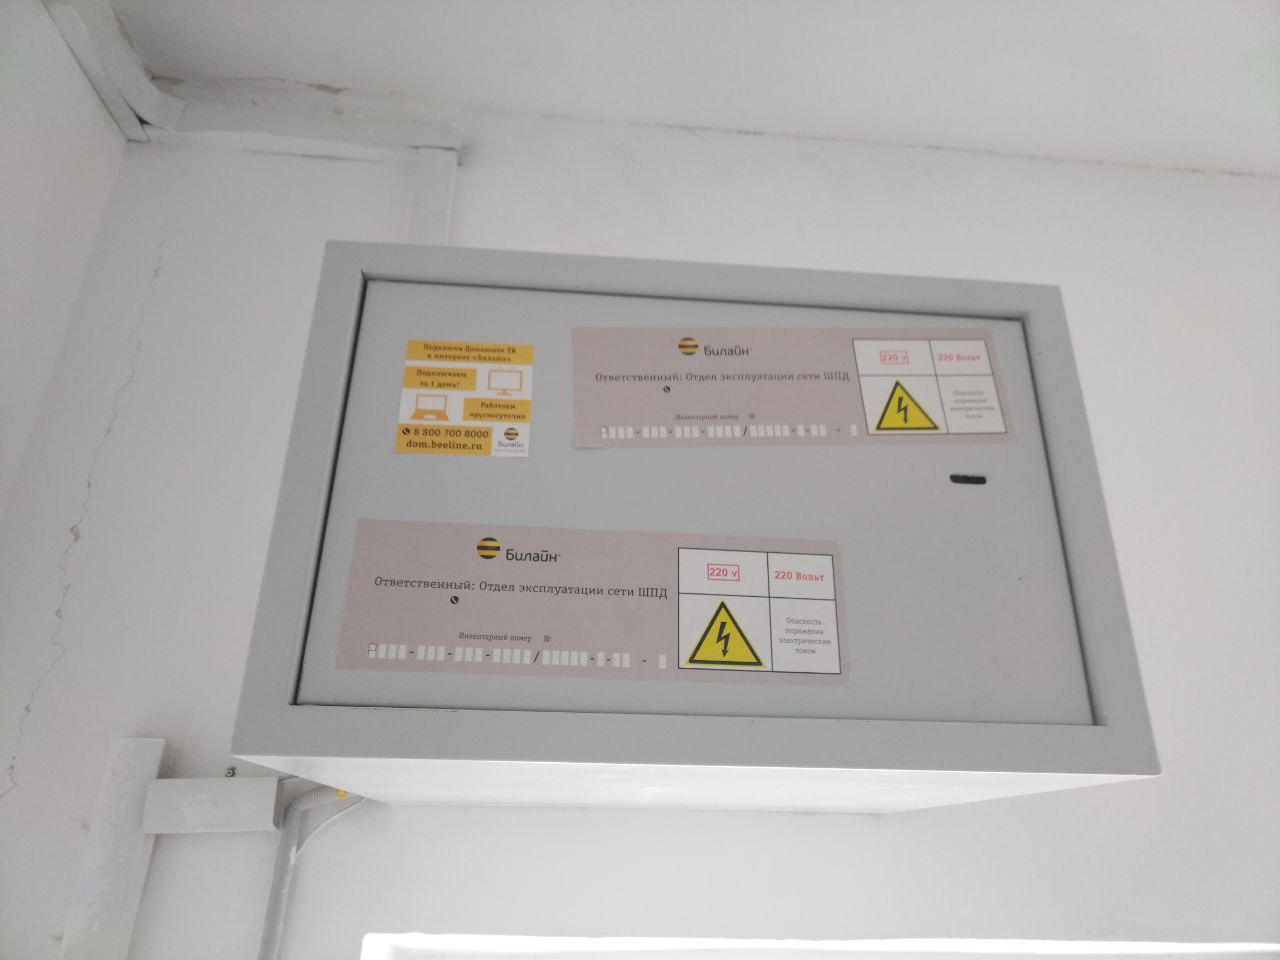shta-7m: (220, 231, 1172, 818)
